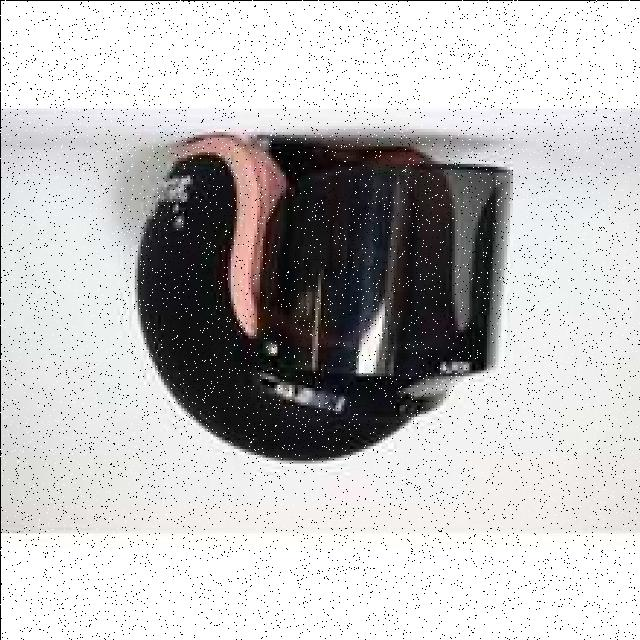Helmet: (134, 131, 515, 460)
